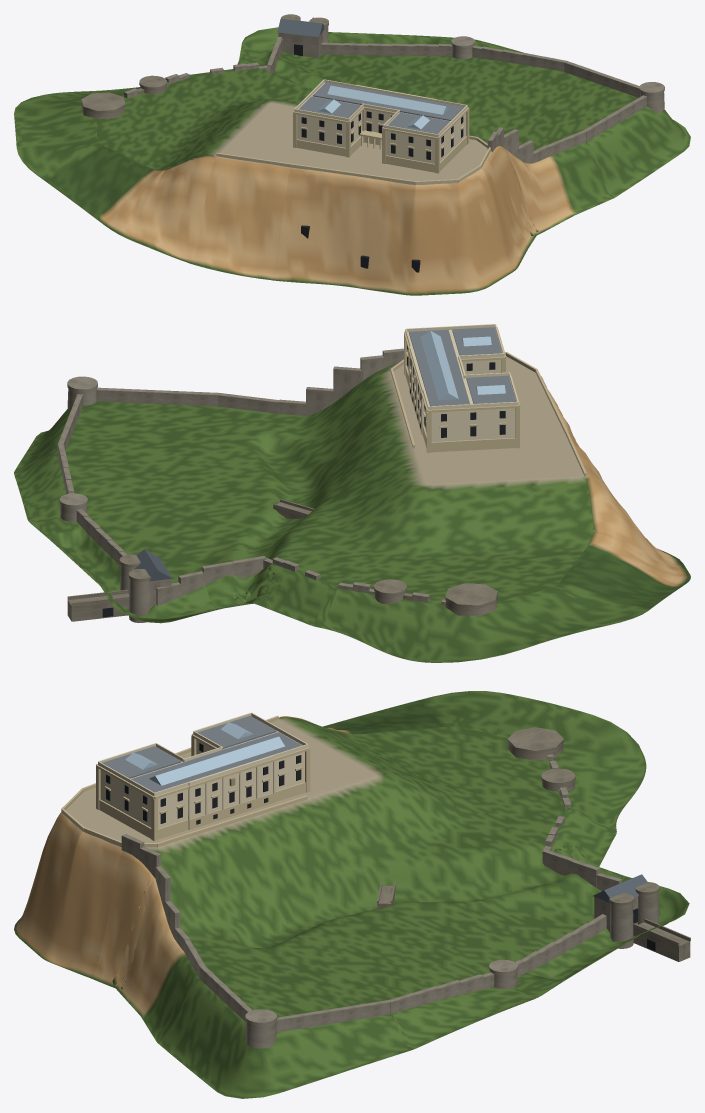
The model's file is nottingham-castle-b85.glb.
3 views of the same model, one above another, from view 1: azimuth 30°, elevation 25°; view 2: azimuth 150°, elevation 25°; view 3: azimuth 270°, elevation 25° (orthographic). The views are drawn at different scales.
Size of the model in its own units: 25.6 by 5.8 by 20.96.
10 materials, 2 textured.
